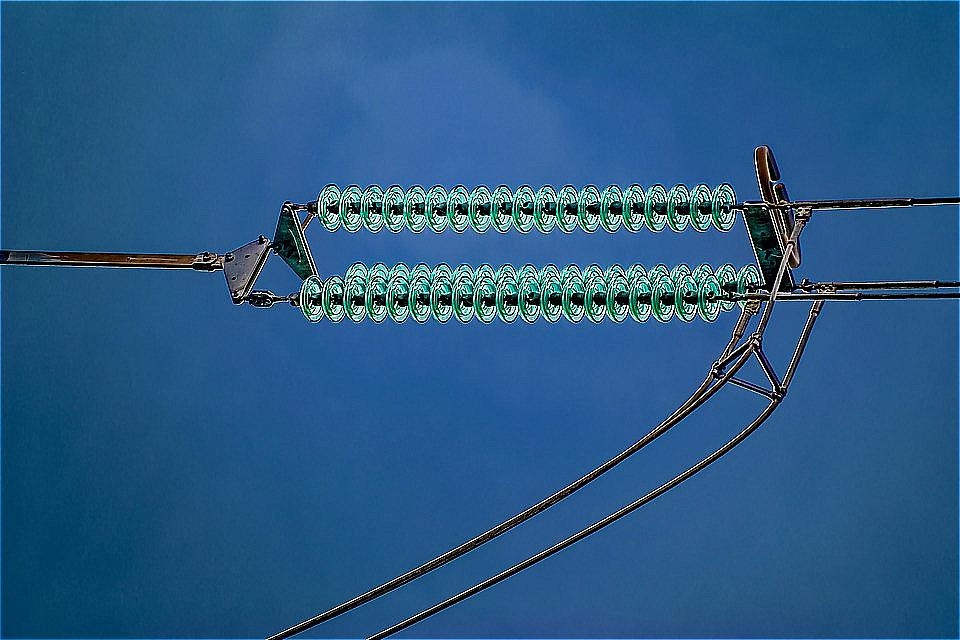insultor3: (296, 252, 766, 322), (312, 174, 745, 244)
